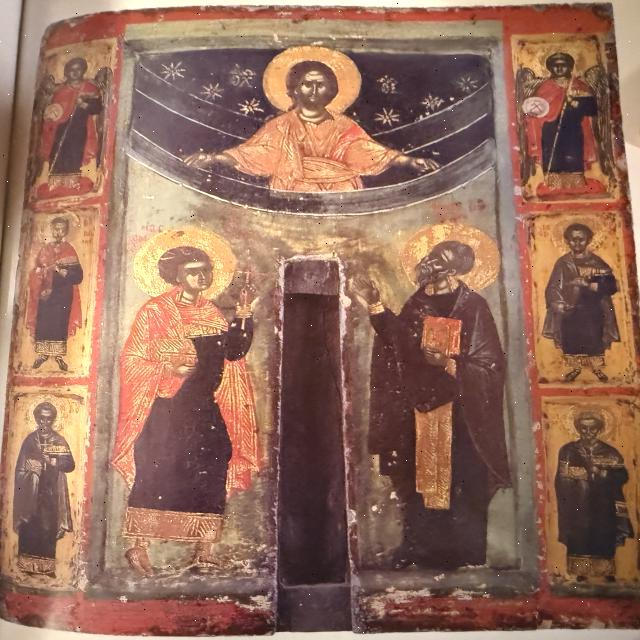angel: (514, 37, 618, 191), (25, 45, 121, 209)
aura: (399, 223, 509, 293), (261, 45, 363, 115), (136, 228, 235, 300), (546, 213, 613, 255), (556, 403, 618, 441), (24, 397, 72, 435), (34, 212, 84, 246)
book: (413, 316, 469, 354)
christ_pantocrator: (133, 43, 495, 197)
saint: (115, 220, 283, 576), (357, 219, 514, 560), (529, 210, 631, 384), (4, 388, 90, 584), (13, 207, 111, 373), (545, 402, 633, 583)
shield: (523, 96, 555, 118), (41, 104, 63, 123)
wing: (582, 64, 616, 182), (27, 73, 61, 177), (513, 71, 543, 177), (94, 66, 116, 168)
